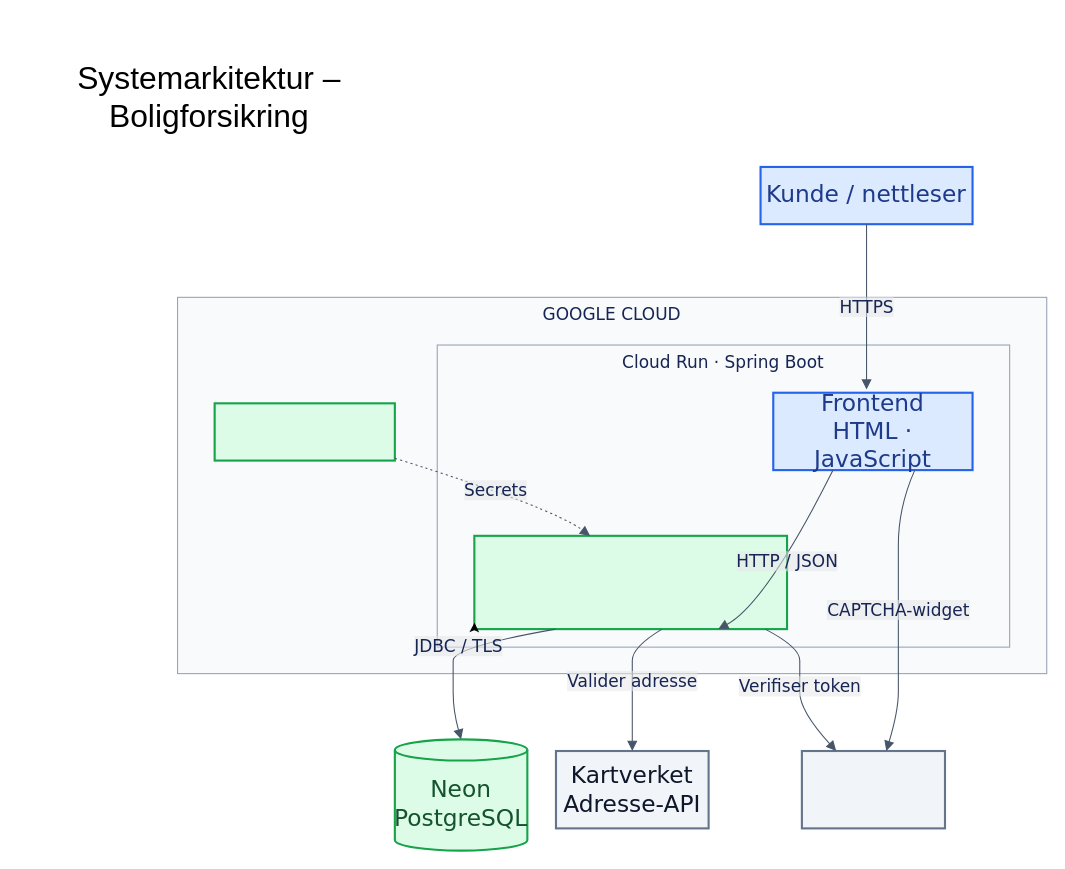
Image size: 1065x869. Some labels were removed from this diagram. Here are the shapes that lost their labels. From the top down, the centre of each, then its label:
the point at 304,431: Secret Manager
the point at 630,582: REST API Controller · Service · Repository
the point at 873,789: Cloudflare Turnstile
